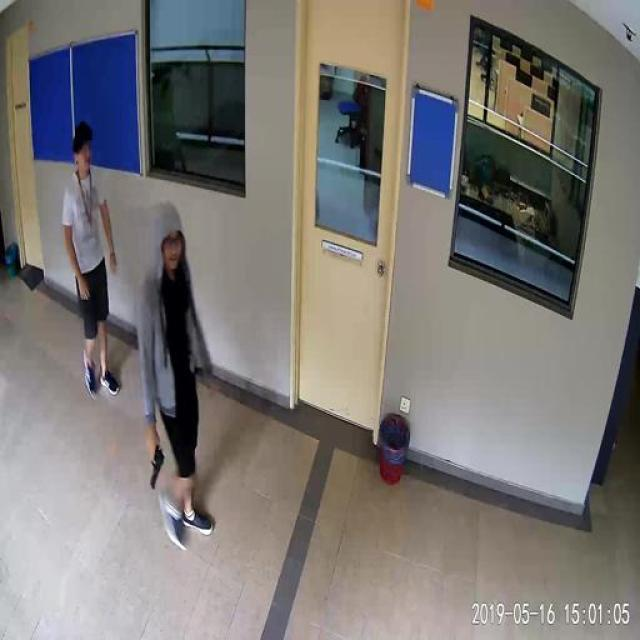Gun: (138, 430, 170, 493)
